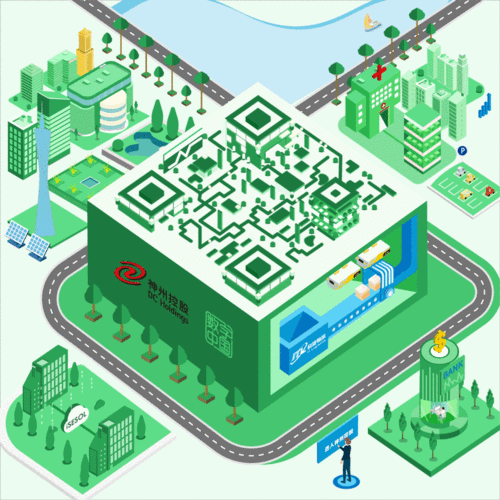QRCode: (112, 94, 411, 295)
